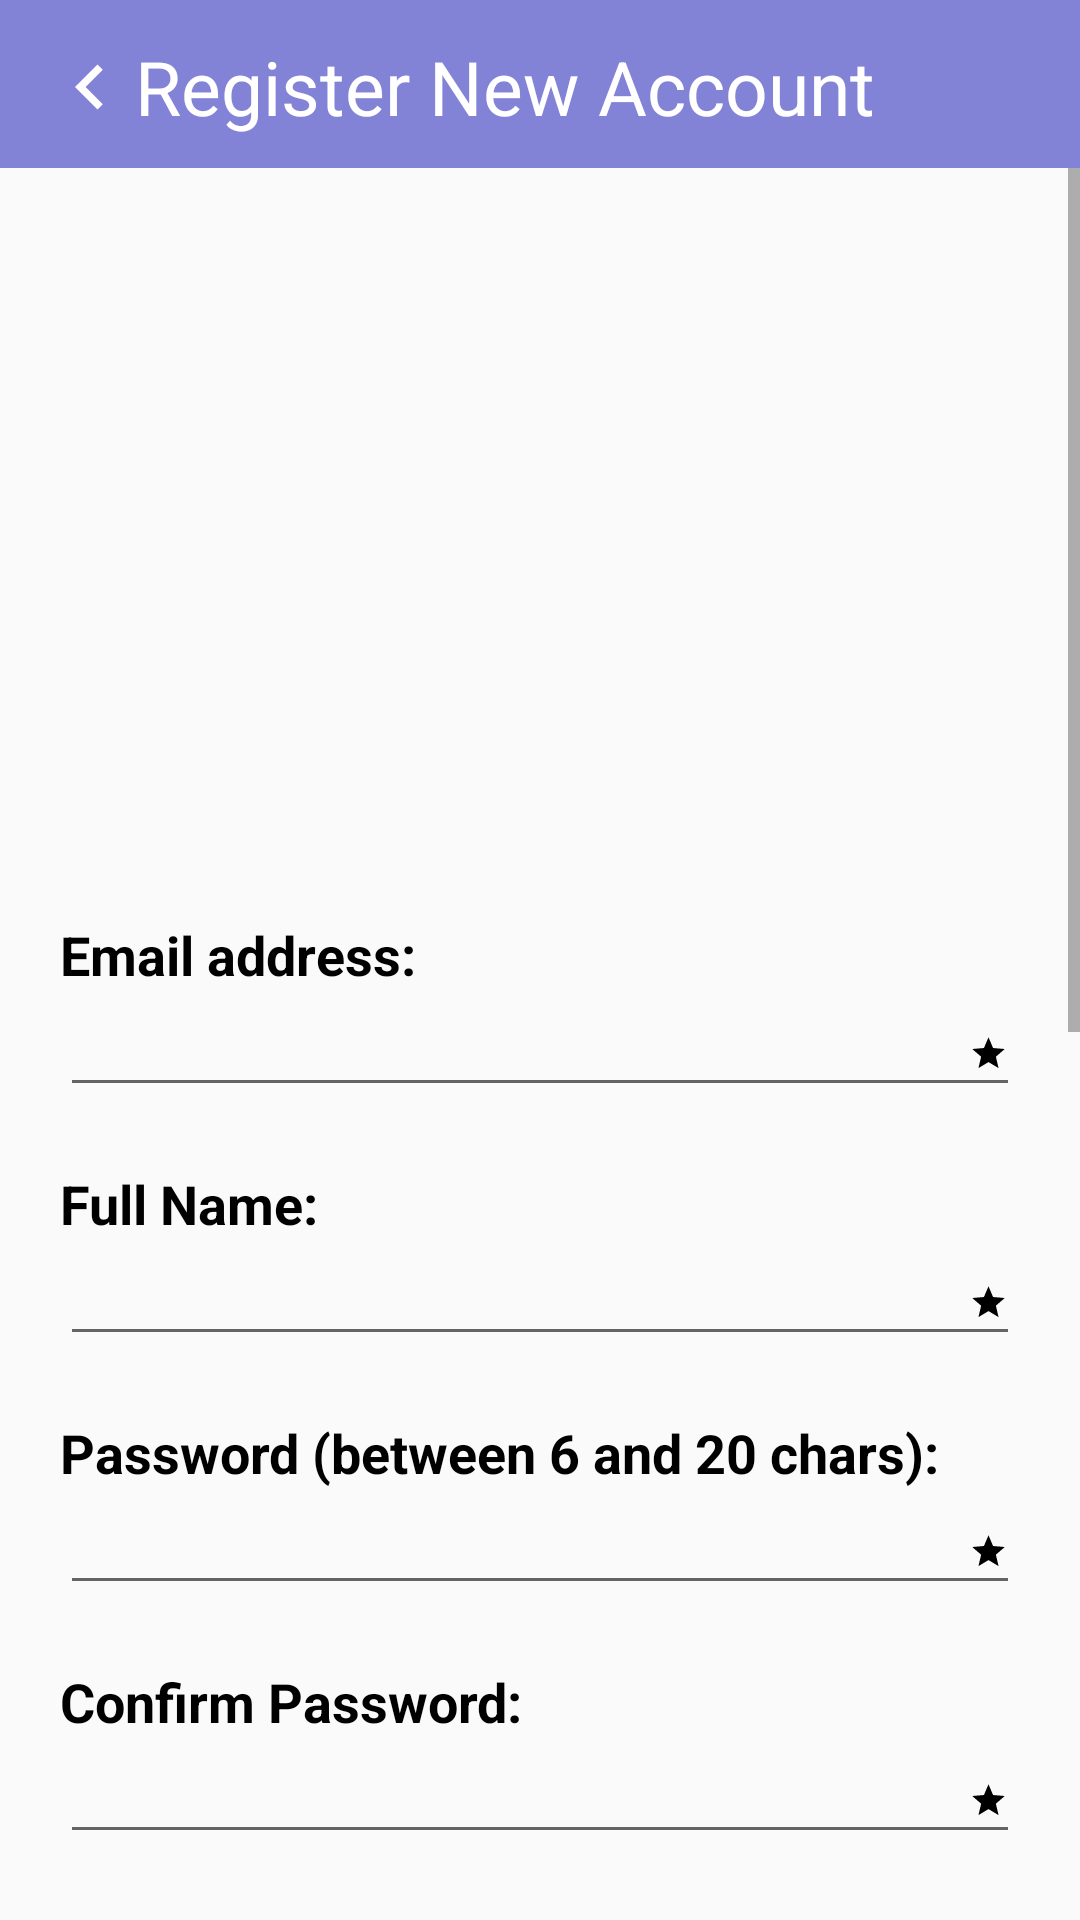

Named icons in this screenshot (1080*1920) and their bounding boxes, (x1, y1, x2, y2):
left arrow: (75, 64, 103, 110)
